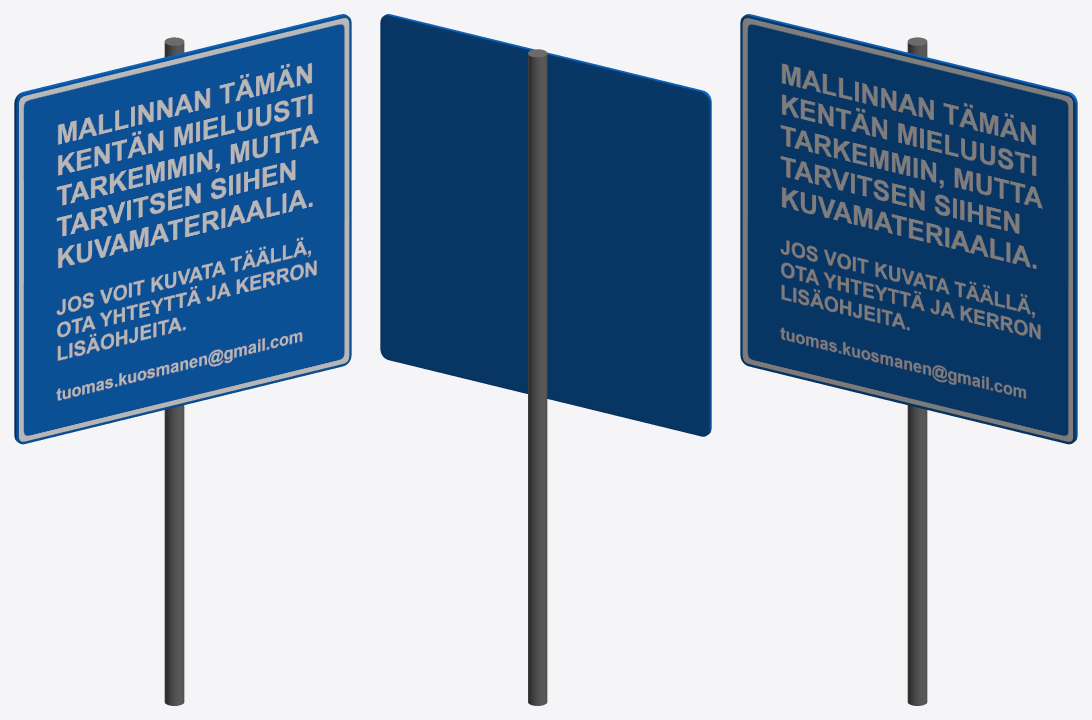
The model's file is photosign.gltf.
3 views of the same model, side by side, from view 1: azimuth 30°, elevation 25°; view 2: azimuth 150°, elevation 25°; view 3: azimuth 330°, elevation 25° (orthographic).
Visible parts, largest first — view 1: Cube.001, Cylinder; view 2: Cube.001, Cylinder; view 3: Cube.001, Cylinder.
Boxes of the visible parts, x1,y1,x2,y2 form: Cube.001: (14, 14, 351, 444); Cylinder: (164, 37, 184, 705); Cube.001: (380, 14, 711, 436); Cylinder: (528, 49, 547, 705); Cube.001: (740, 14, 1077, 444); Cylinder: (907, 37, 927, 705).
Size of the model in its own units: 2 by 3.76 by 0.1501.
